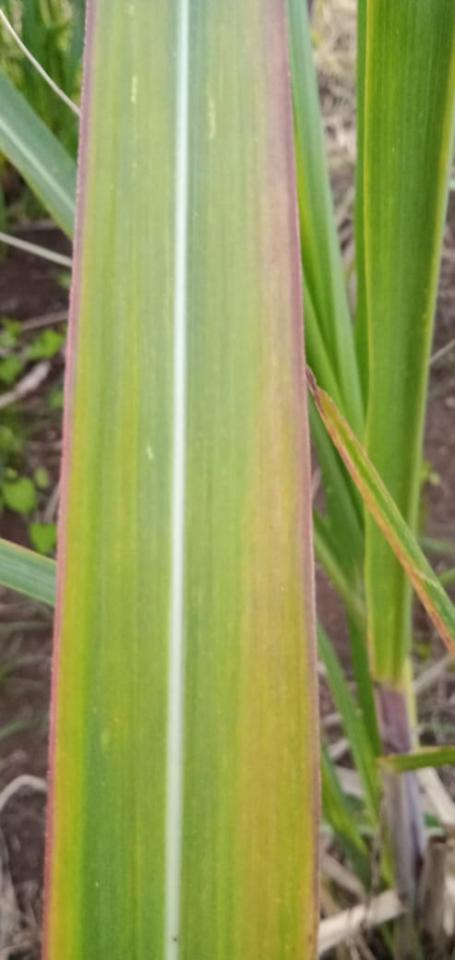Yellow: (233, 0, 319, 959), (41, 141, 87, 959)
